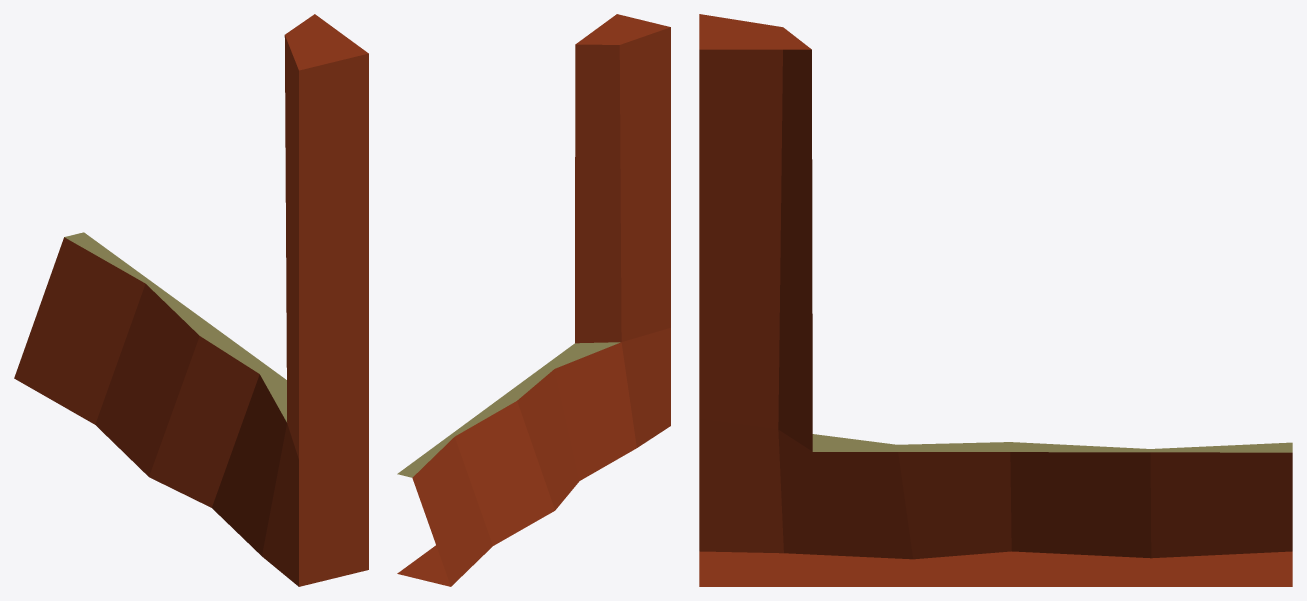
File: S_wall_lateral.fbx
The picture shows the model from 3 angles, left to right: view 1: azimuth 30°, elevation 25°; view 2: azimuth 150°, elevation 25°; view 3: azimuth 270°, elevation 25°; orthographic projection. The views are drawn at different scales.
Visible parts, largest first — view 1: S_wall; view 2: S_wall; view 3: S_wall.
Part boxes in pixels (<box>): S_wall: <box>14,14,368,586</box>; S_wall: <box>397,14,670,586</box>; S_wall: <box>699,14,1292,586</box>.
Bounding box in the file's own units: 28.34 × 200 × 200.
